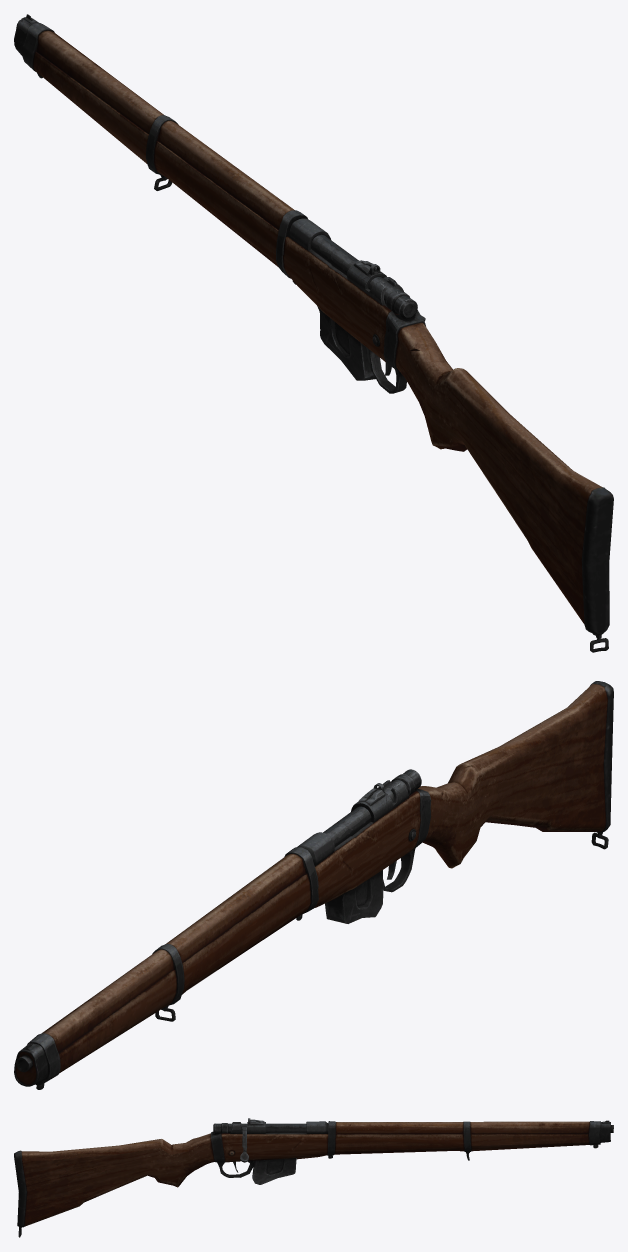
Rendered from rifle.glb.
The picture shows the model from 3 angles, top to bottom: view 1: azimuth 30°, elevation 25°; view 2: azimuth 150°, elevation 25°; view 3: azimuth 270°, elevation 25°; orthographic projection. The views are drawn at different scales.
Visible parts, largest first — view 1: HuntingRifleMesh-resources.assets-477; view 2: HuntingRifleMesh-resources.assets-477; view 3: HuntingRifleMesh-resources.assets-477.
Boxes of the visible parts, x1,y1,x2,y2 form: HuntingRifleMesh-resources.assets-477: (14,14,613,652); HuntingRifleMesh-resources.assets-477: (14,681,613,1089); HuntingRifleMesh-resources.assets-477: (14,1118,613,1237).
Bounding box in the file's own units: 0.0952 × 0.3247 × 1.51.
Materials: 1 (1 with a texture image).
